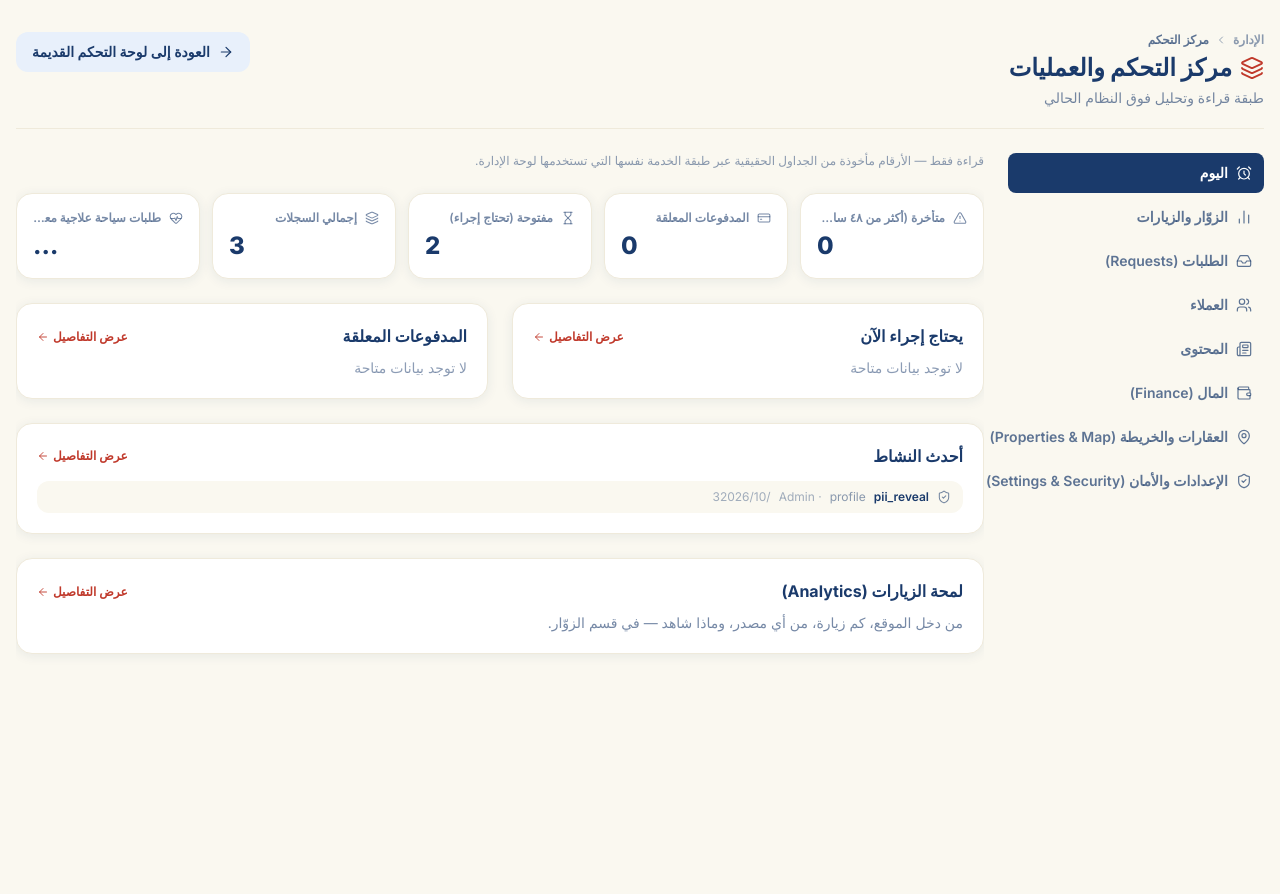
Scenario: Control Center navigation › navigates to visitors via its sidebar button
Click the button "الزوّار والزيارات" at (1136,217), box [1008,197,1264,237]
(page scrolled)
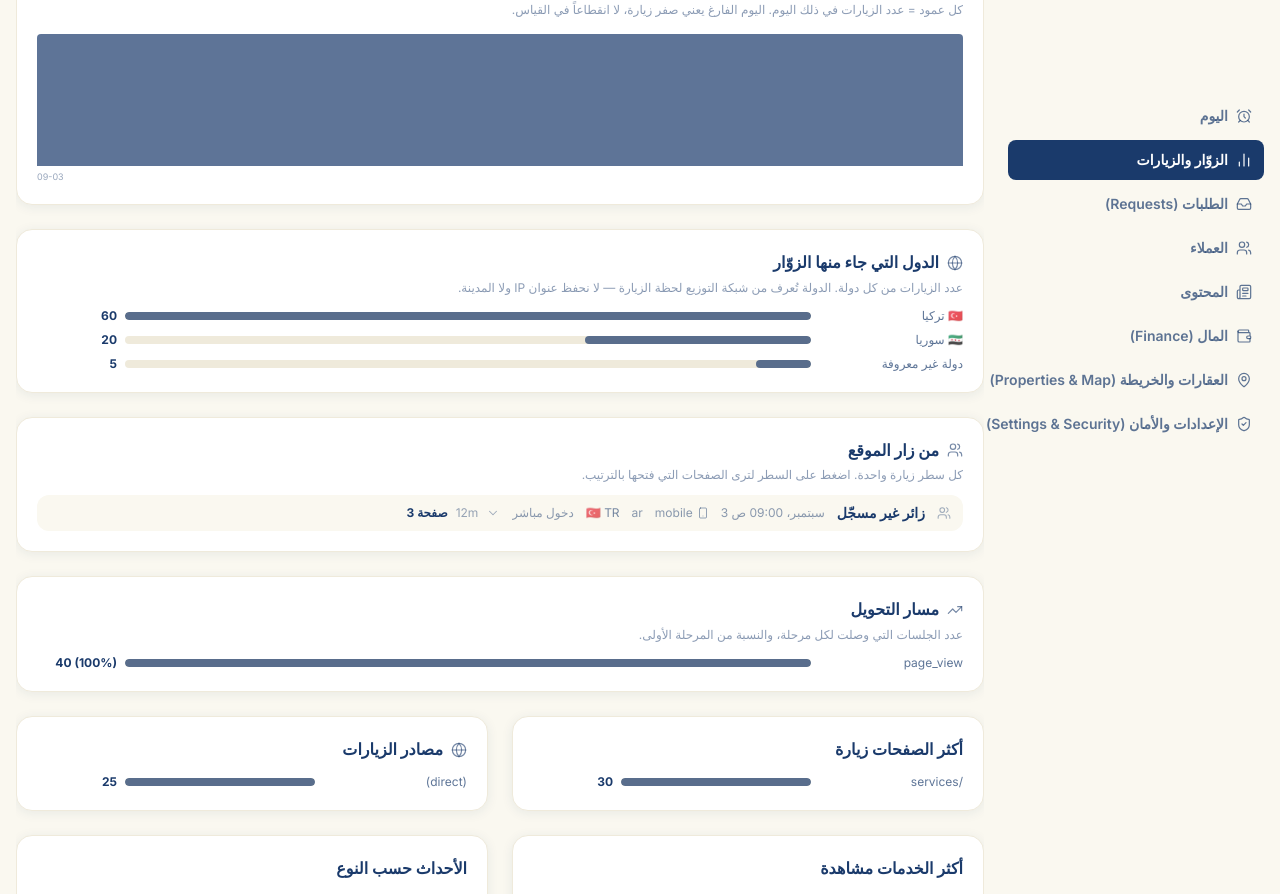
Expected: the heading "من زار الموقع" is shown, [848,438,963,463]
